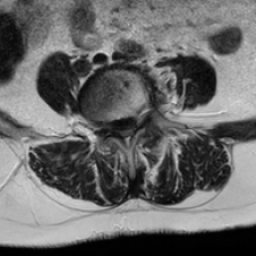CCS_severe_stenosis: (122, 117, 130, 154)
LFS_normal: (138, 98, 147, 133)
LLS_severe_stenosis: (130, 116, 138, 145)
RFS_severe_stenosis: (105, 110, 114, 141)
RLS_severe_stenosis: (114, 117, 122, 147)
